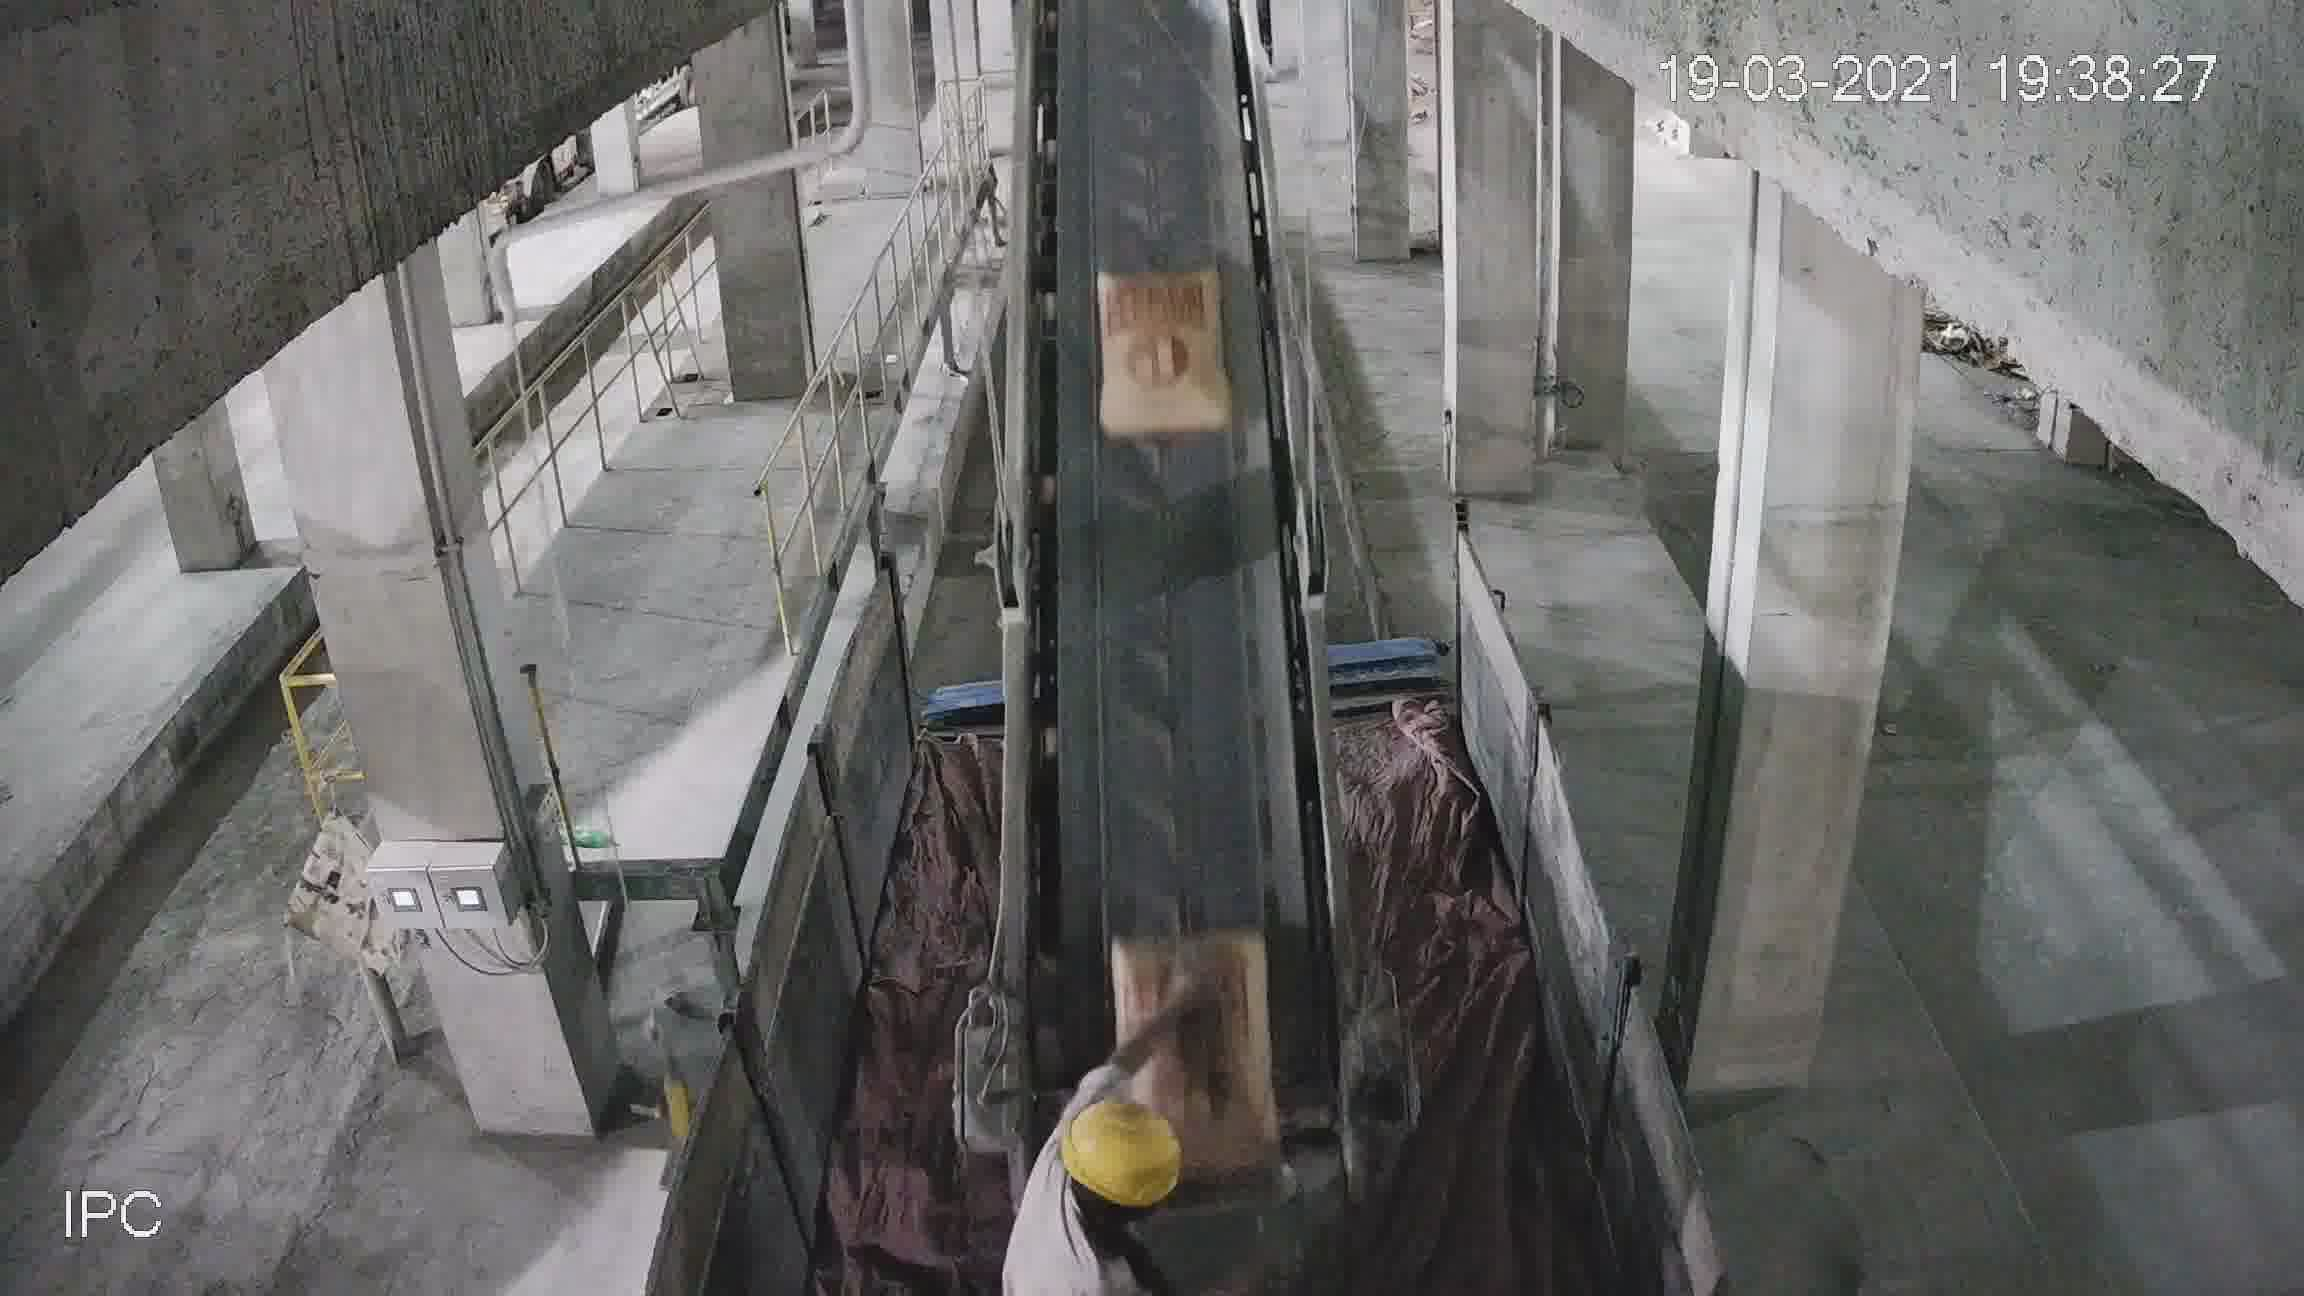bag: (1112, 934, 1271, 1127), (1097, 260, 1225, 435)
belt: (1029, 43, 1328, 1043)
